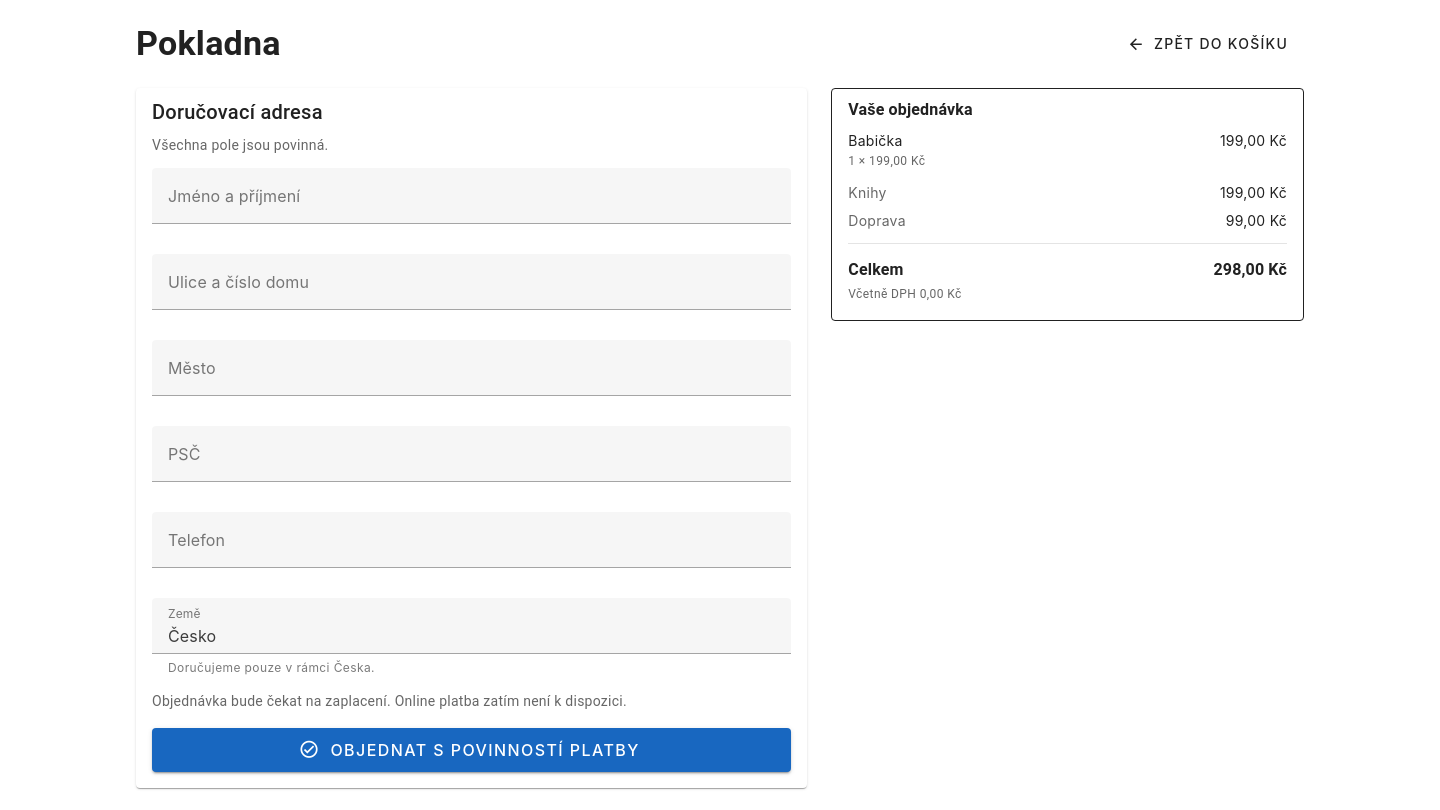
Test case: CheckoutView › shows a field the server rejected at that field
Type "Jan Novák" into the field labelled "Jméno a příjmení" at (472,196), box [152,168,791,224]
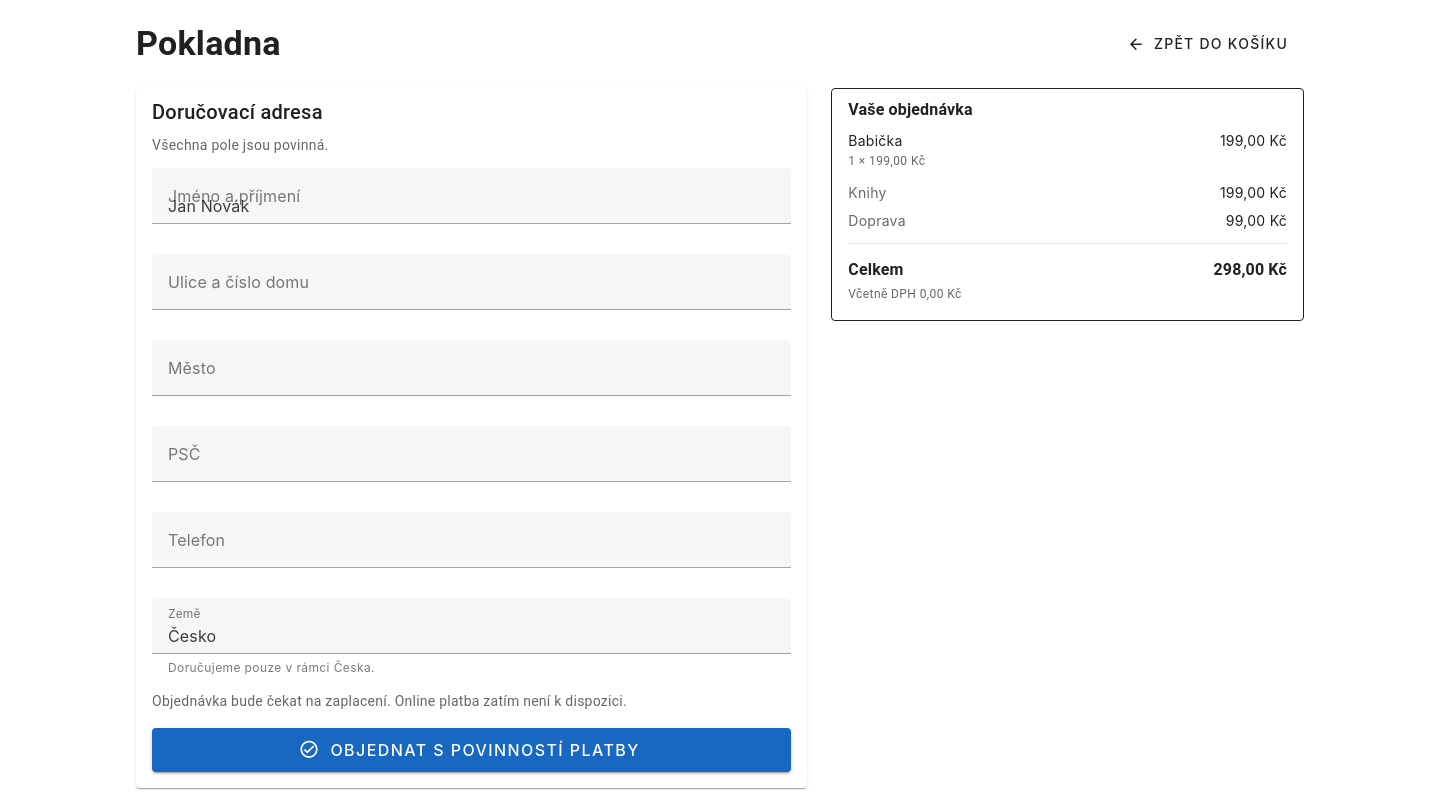
Type "Vodičkova 12" into the field labelled "Ulice a číslo domu" at (472,282), box [152,254,791,310]
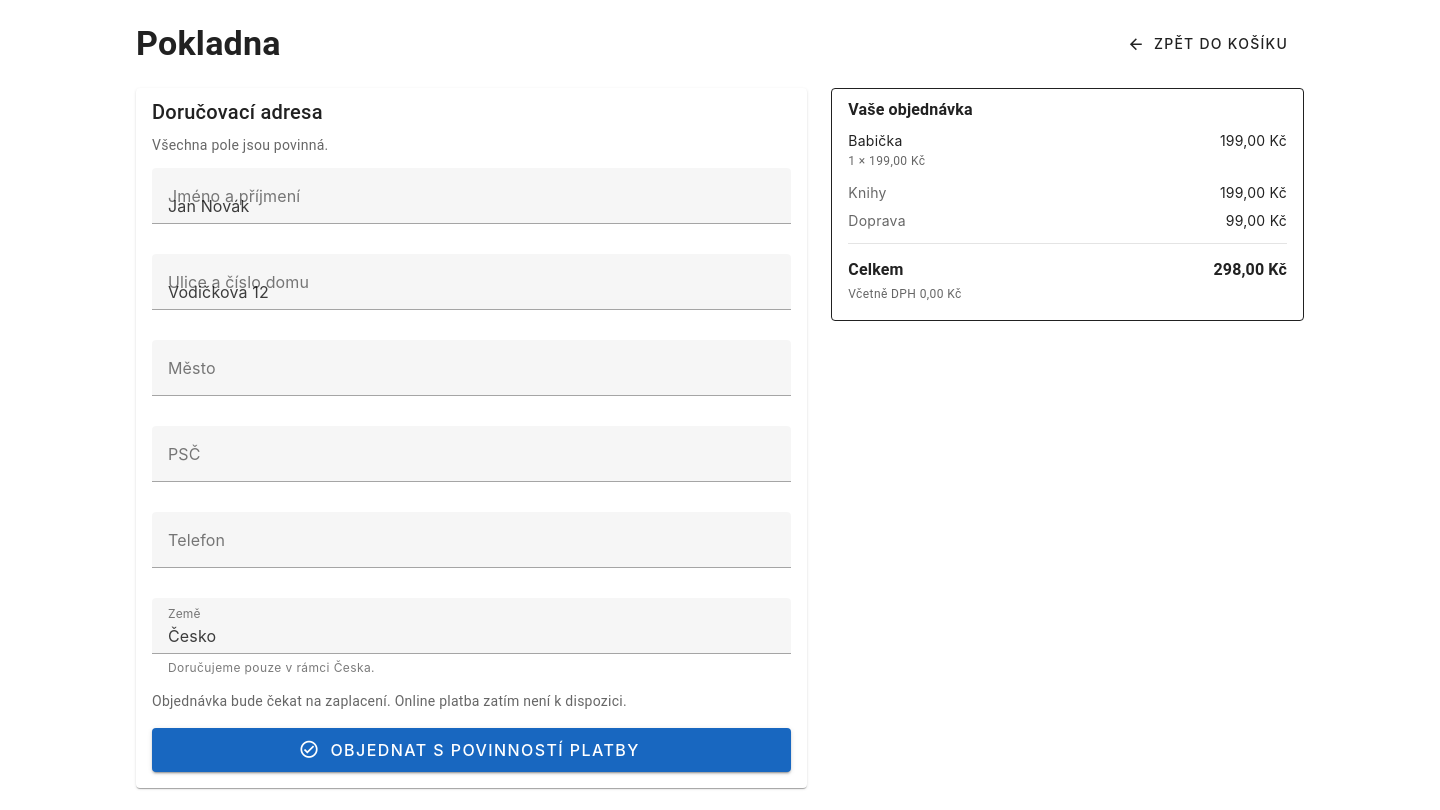
Type "Praha" into the field labelled "Město" at (472,368), box [152,340,791,396]
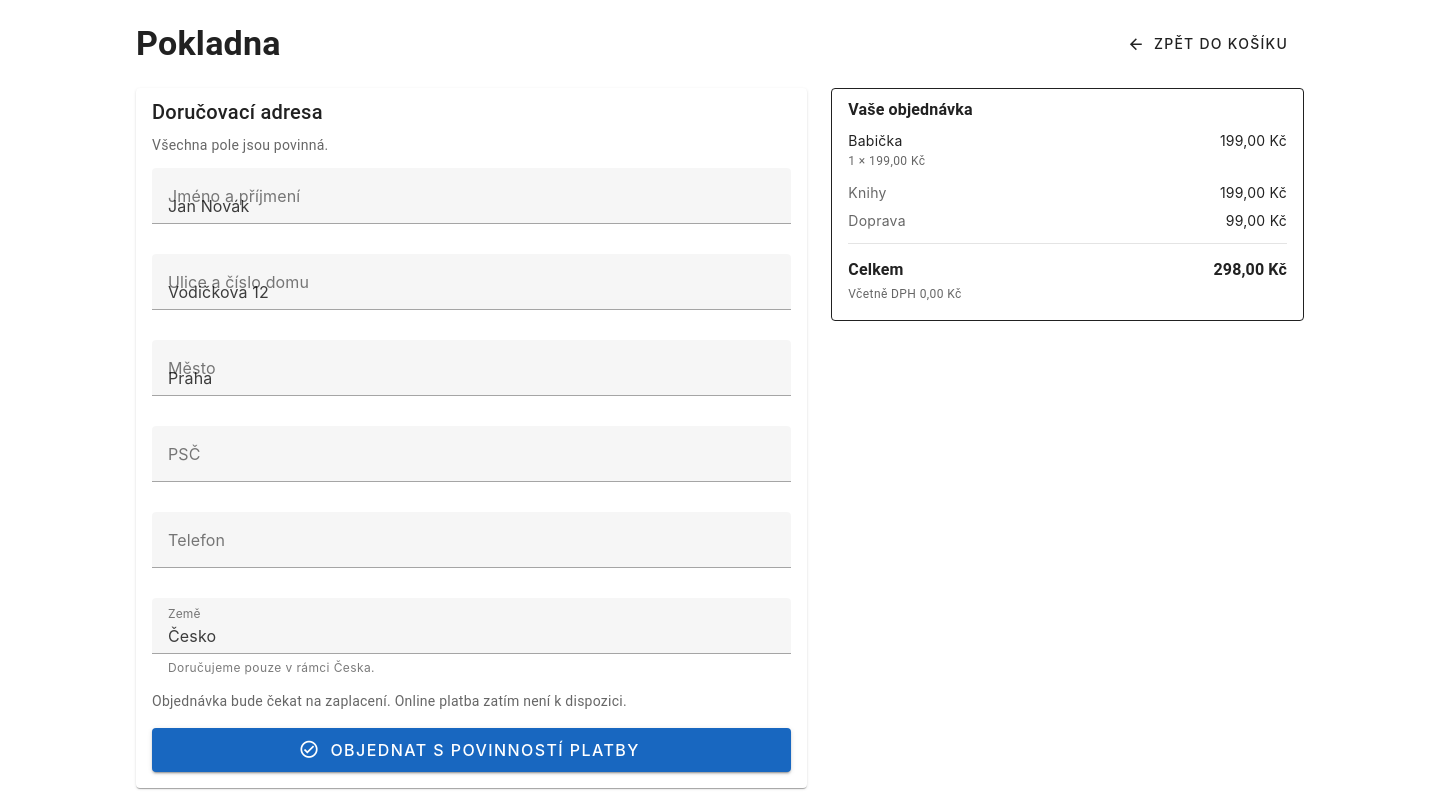
Type "110 00" into the field labelled "PSČ" at (472,454), box [152,426,791,482]
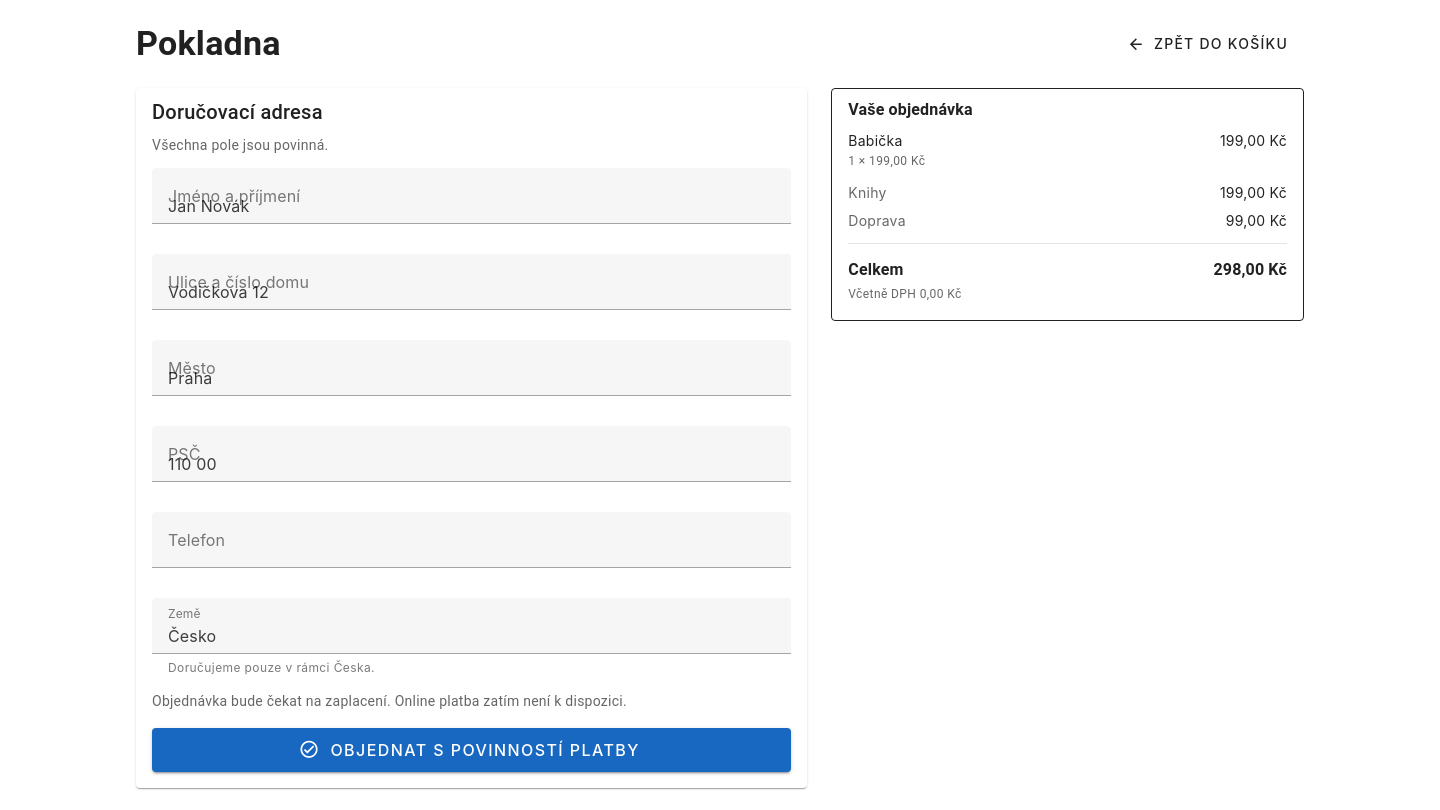
Type "+420 777 123 456" into the field labelled "Telefon" at (472,540), box [152,512,791,568]
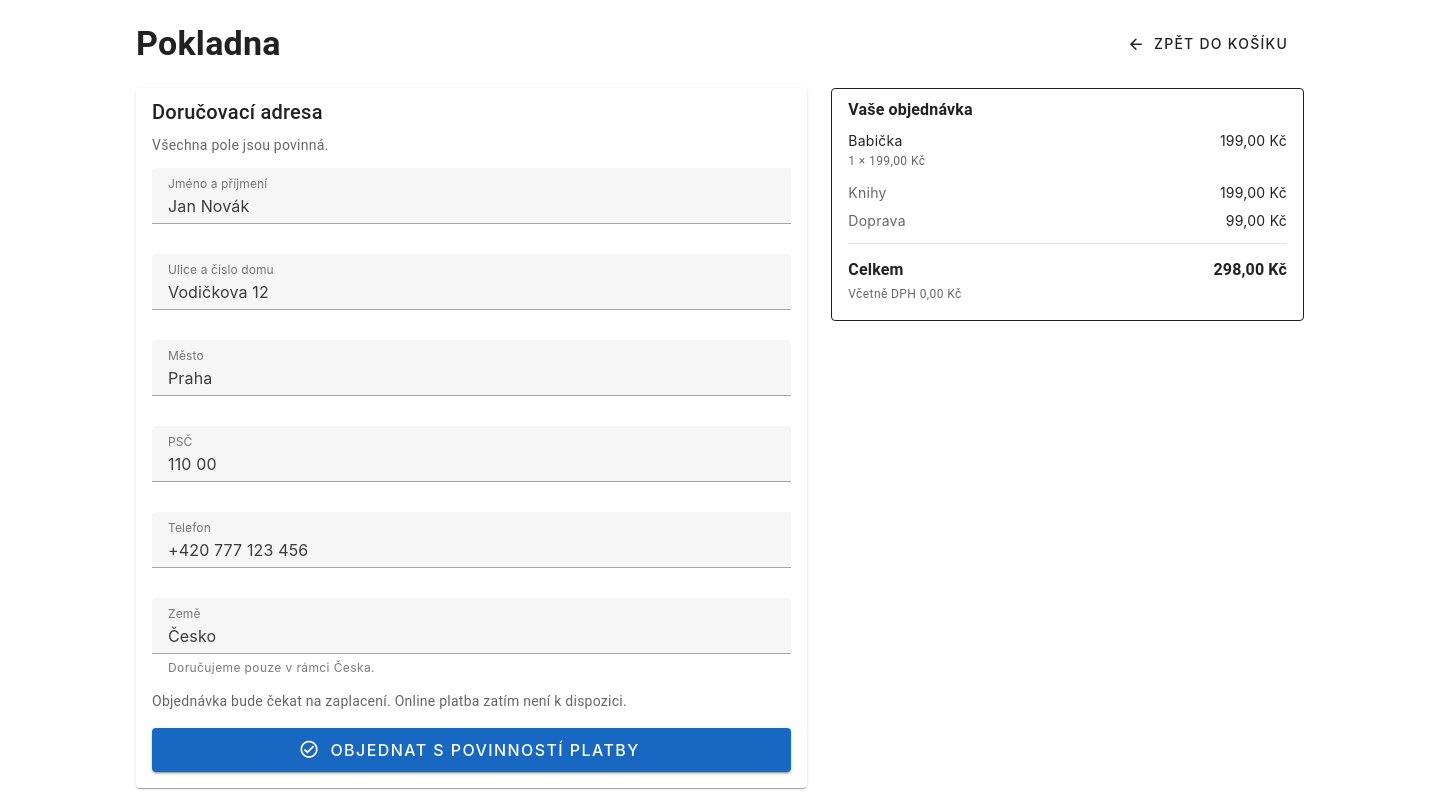
Click the button "Objednat s povinností platby" at (472,750), box [152,728,791,772]
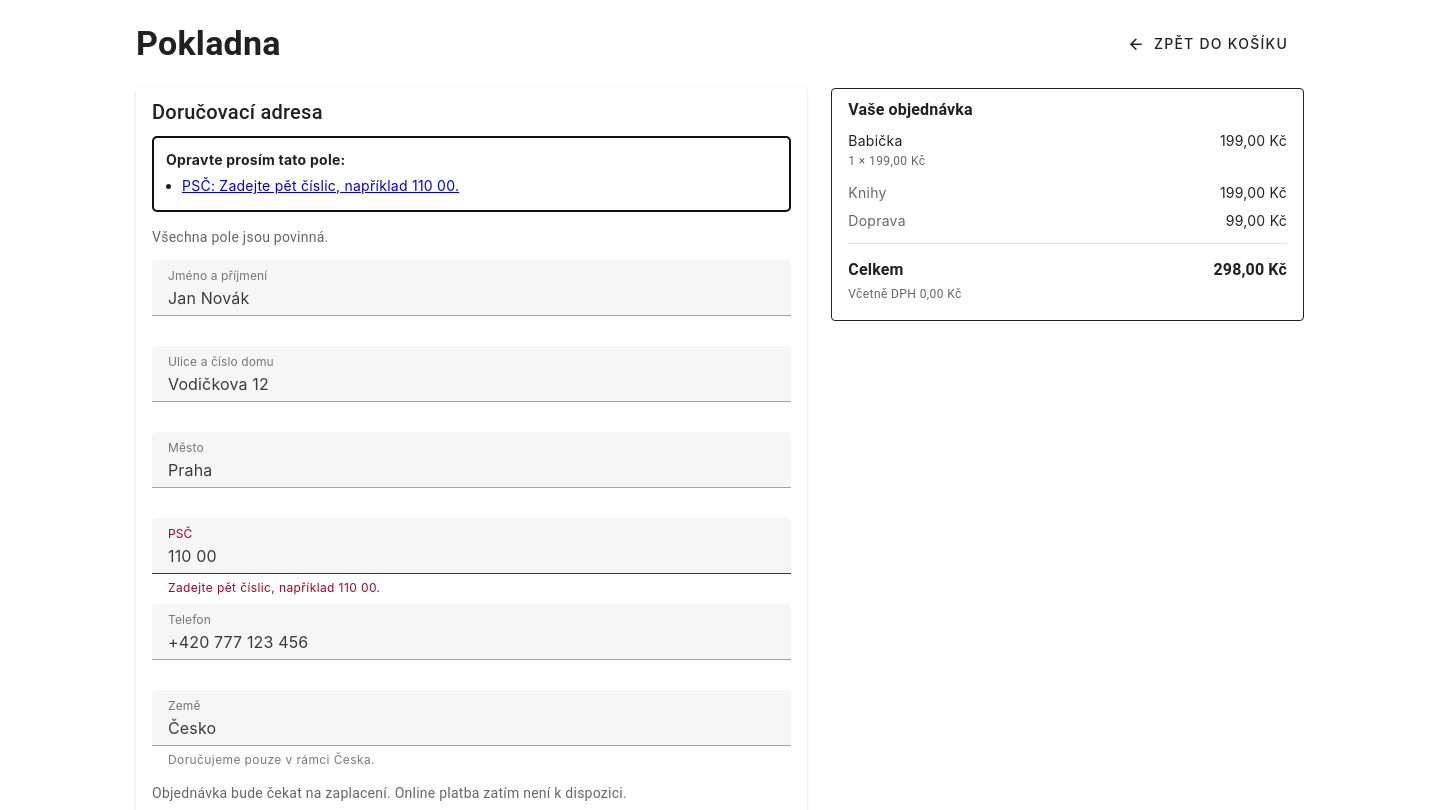
Expected: the message "Zadejte pět číslic, například 110 00." is shown, [168,580,380,595]
